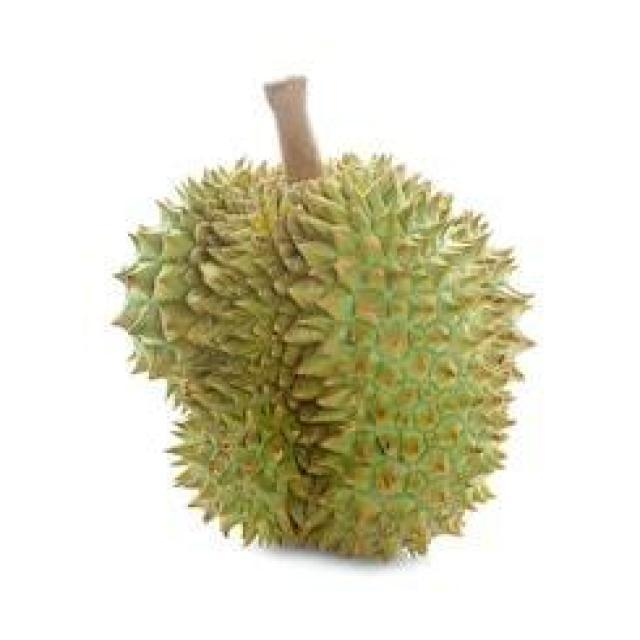immature: (113, 145, 542, 567)
